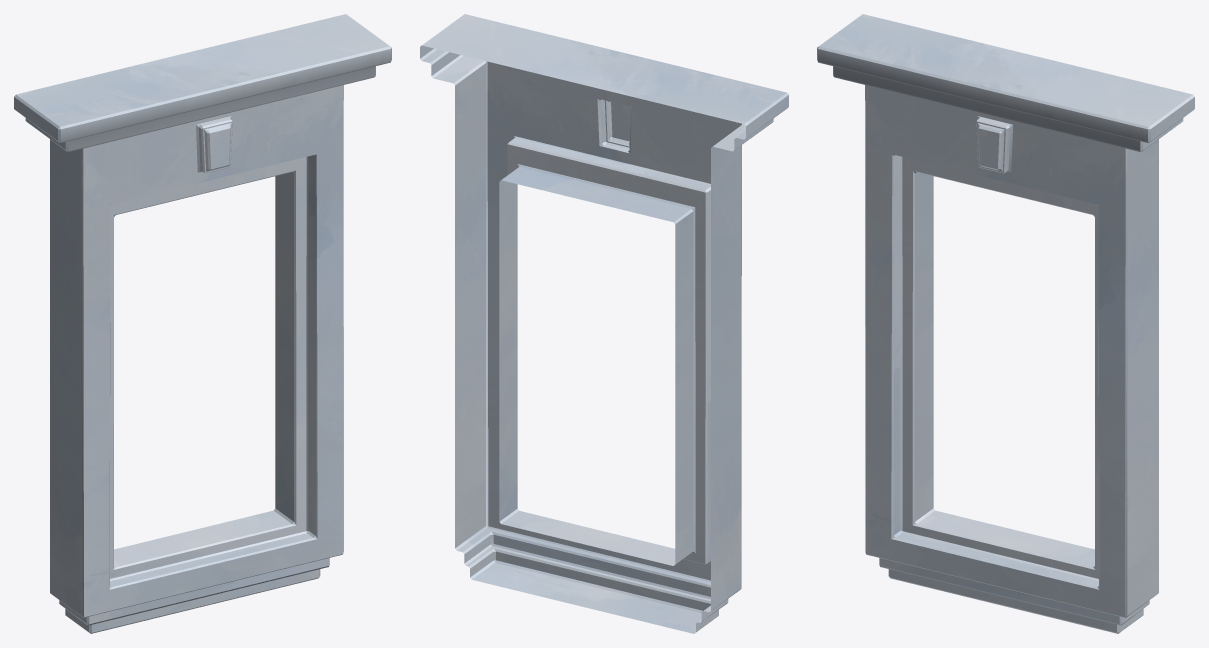
Rendered from Window 1.fbx.
3 renders of one model, left to right at view 1: azimuth 30°, elevation 25°; view 2: azimuth 150°, elevation 25°; view 3: azimuth 330°, elevation 25°, orthographic. The views are drawn at different scales.
Visible parts, largest first — view 1: Window 1; view 2: Window 1; view 3: Window 1.
Part boxes in pixels (left/top/right/bottom): Window 1: left=14, top=14, right=391, bottom=633; Window 1: left=420, top=14, right=788, bottom=633; Window 1: left=817, top=14, right=1194, bottom=633.
Size of the model in its own units: 93.8 by 144 by 21.94.
